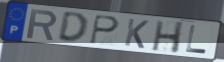D: (56, 12, 90, 45)
H: (150, 20, 186, 55)
K: (123, 17, 150, 50)
L: (185, 24, 209, 55)
P: (89, 14, 121, 45)
R: (25, 8, 59, 42)
